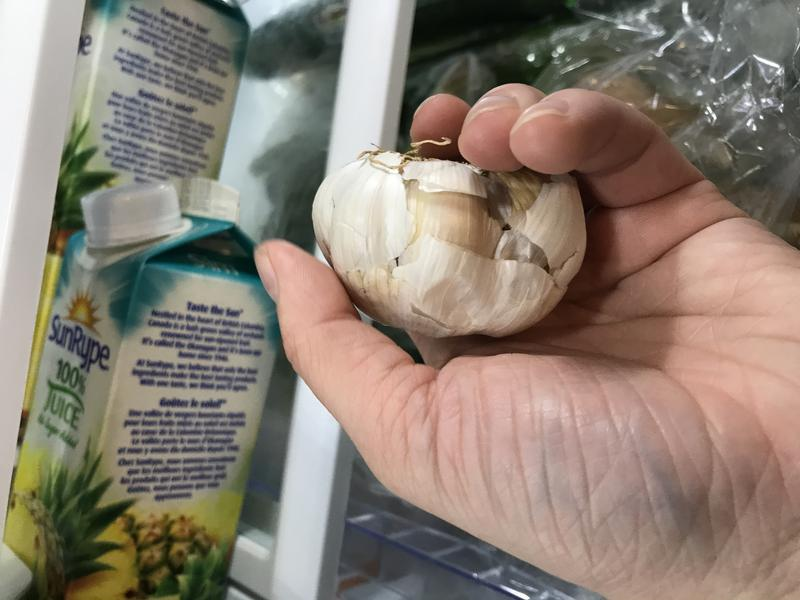garlic: (295, 135, 597, 345)
